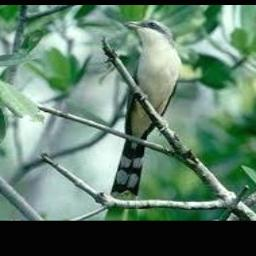Cuckoo: (109, 19, 181, 202)
